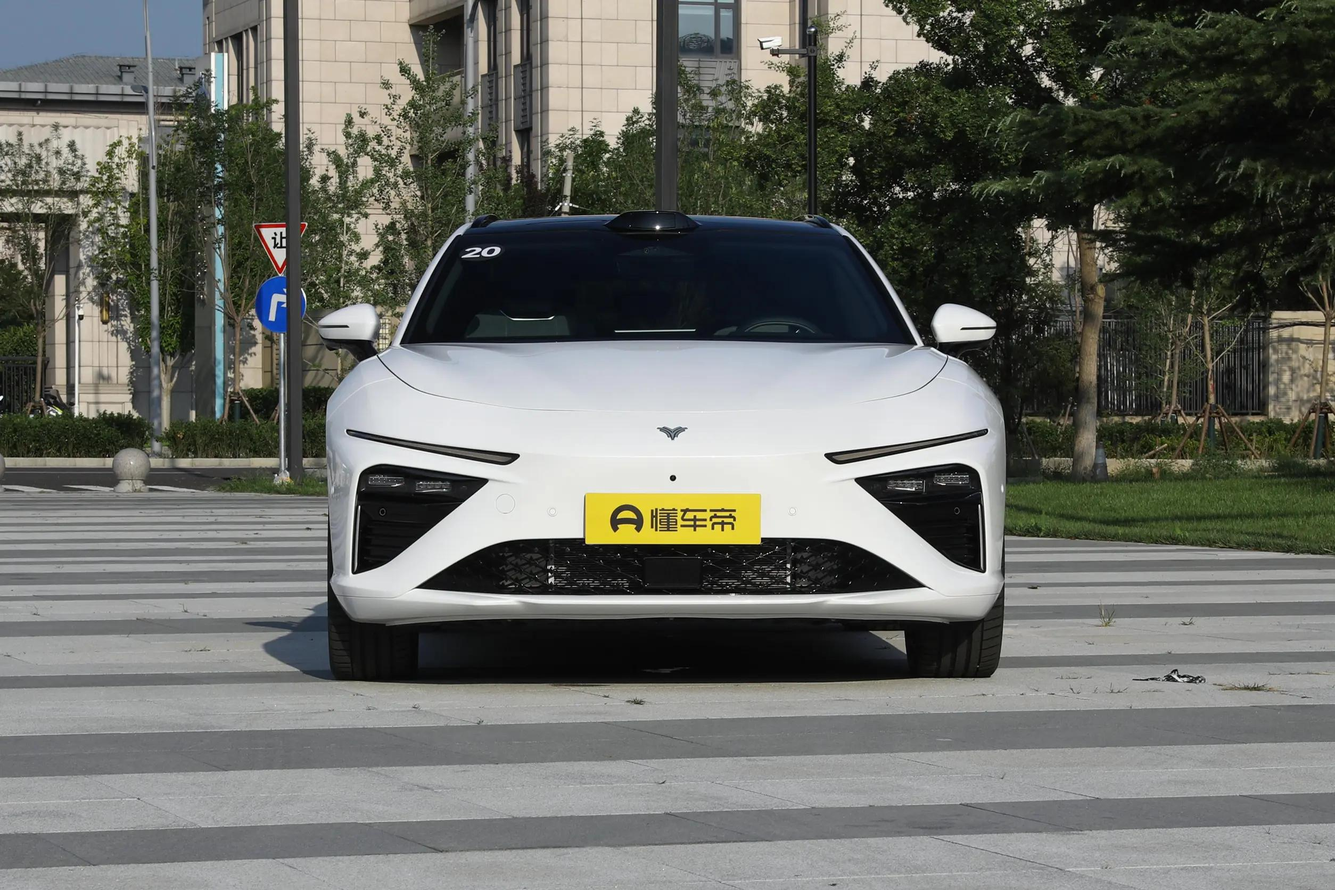NETA: (655, 425, 688, 442)
